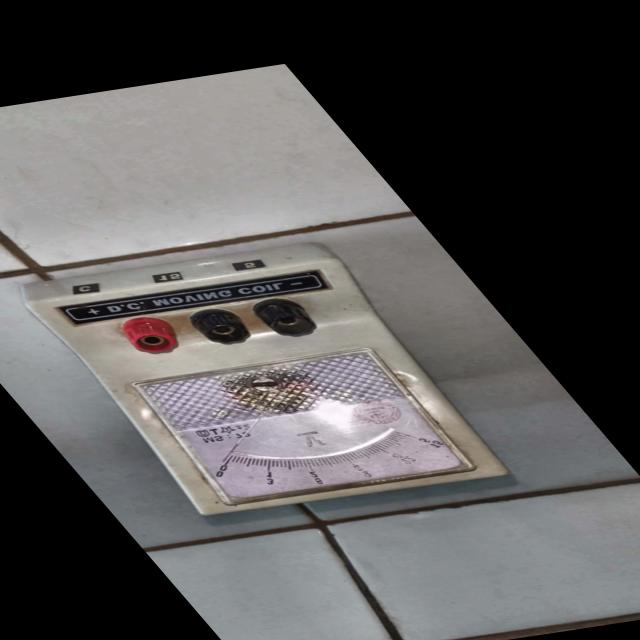Analog Voltmeter: (0, 222, 560, 537)
